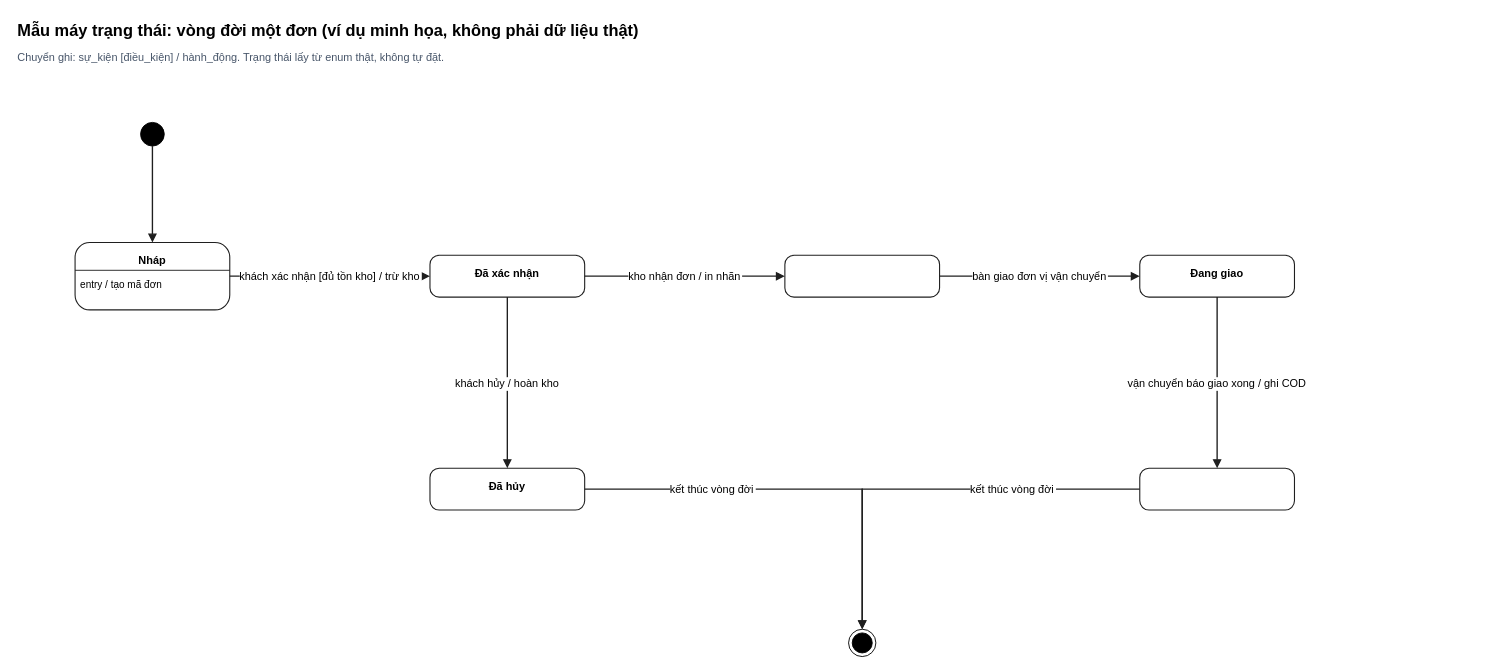
This 1510x672 diagram has some shape labels left out. The shapes that lost their labels are listed below. From the top down, each one's centre as x and y in pixels, then its label:
At (862,275): "Đang đóng gói".
At (1217,488): "Đã giao".
